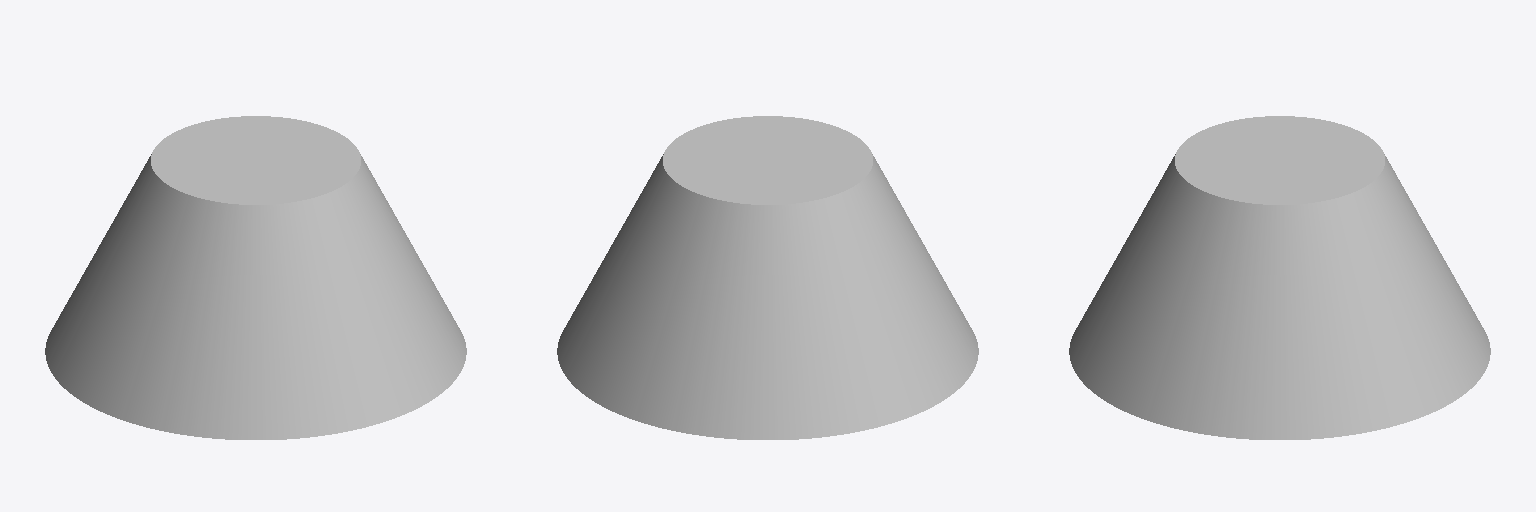
File: half_cone_base.obj
The picture shows the model from 3 angles: view 1: azimuth 30°, elevation 25°; view 2: azimuth 150°, elevation 25°; view 3: azimuth 270°, elevation 25°; orthographic projection.
Visible parts, largest first — view 1: half_cone_base_Cone.002; view 2: half_cone_base_Cone.002; view 3: half_cone_base_Cone.002.
Part boxes in pixels (left/top/right/bottom): half_cone_base_Cone.002: left=45, top=116, right=466, bottom=439; half_cone_base_Cone.002: left=557, top=116, right=978, bottom=439; half_cone_base_Cone.002: left=1069, top=116, right=1490, bottom=439.
Size of the model in its own units: 2 by 1 by 2.